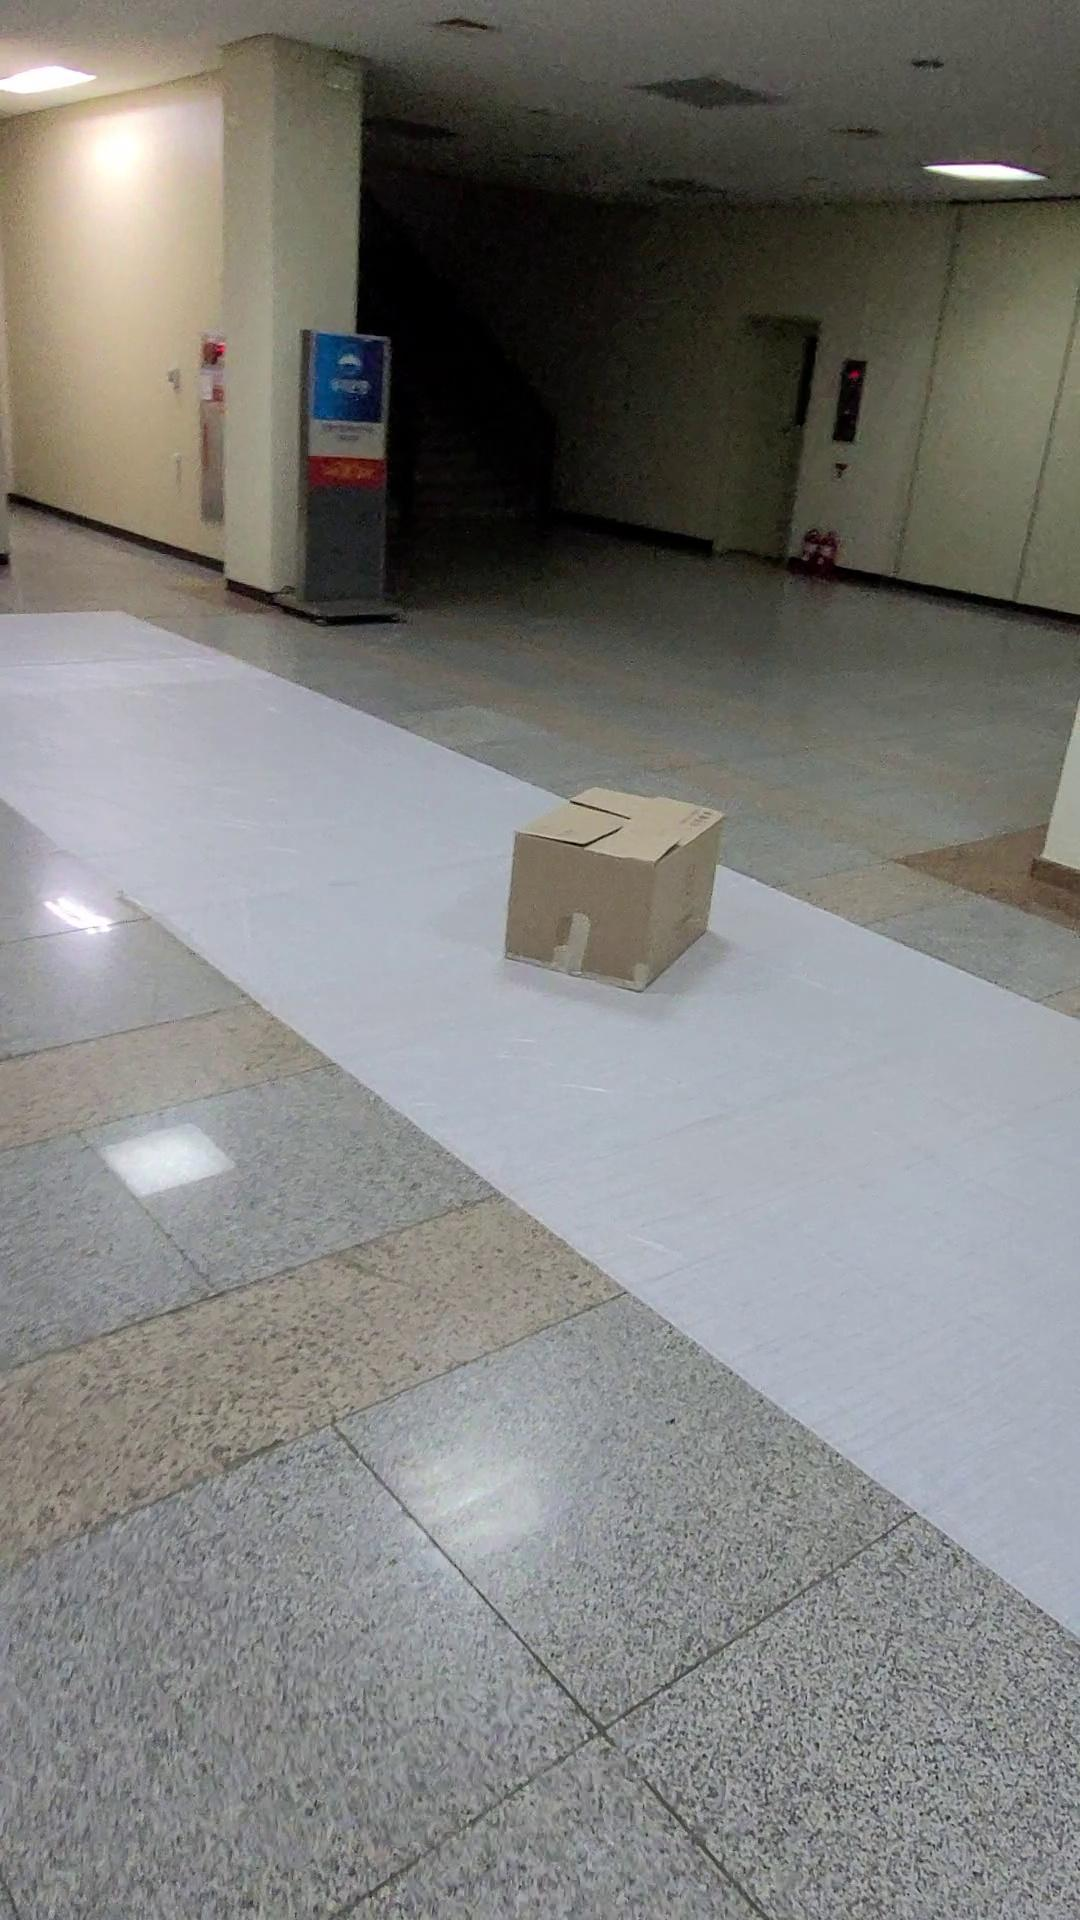Box: (462, 740, 746, 1022)
